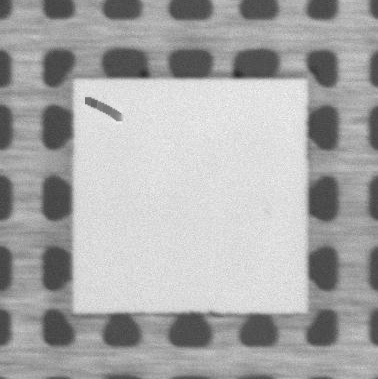DIE_INK: (80, 91, 126, 127)
